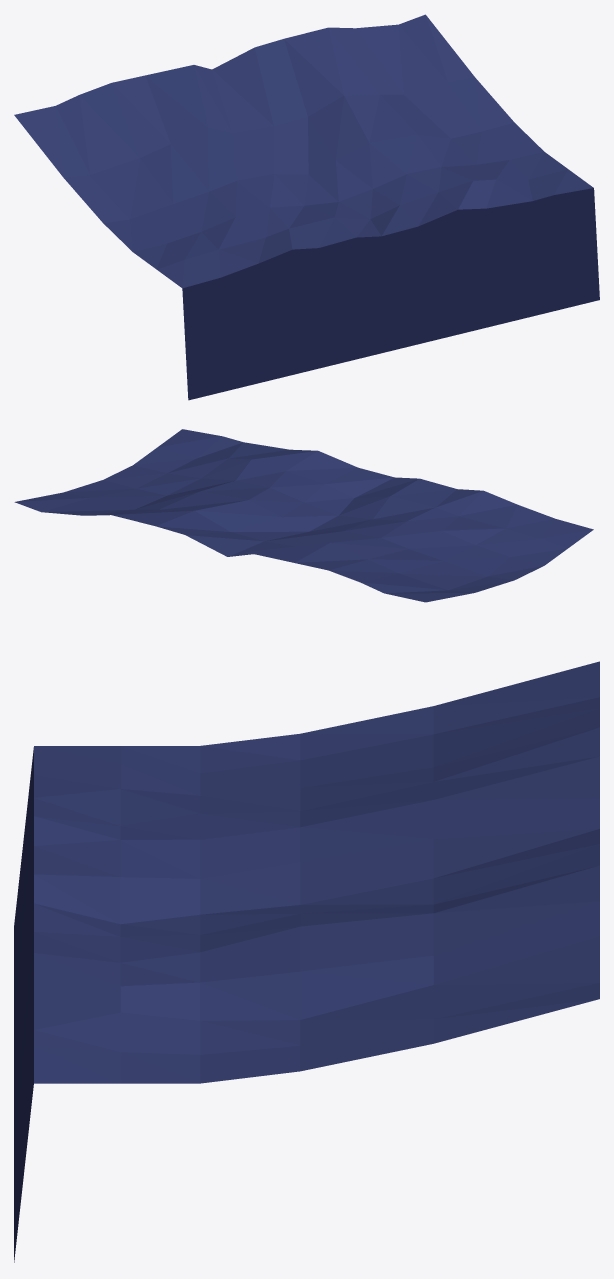
The model's file is seabed-1.glb.
3 renders of one model, top to bottom at view 1: azimuth 30°, elevation 25°; view 2: azimuth 150°, elevation 25°; view 3: azimuth 270°, elevation 25°, orthographic. The views are drawn at different scales.
Visible parts, largest first — view 1: seabed-1; view 2: seabed-1; view 3: seabed-1.
Part boxes in pixels (x1=…): seabed-1: x1=14, y1=14, x2=599, y2=400; seabed-1: x1=14, y1=429, x2=593, y2=602; seabed-1: x1=14, y1=661, x2=599, y2=1262.
Size of the model in its own units: 12 by 4.7 by 8.8.
